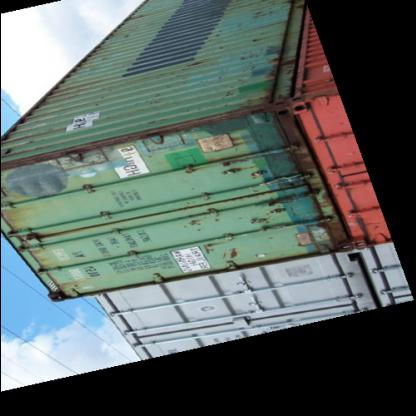Damage: (3, 105, 260, 173), (257, 101, 339, 256)
